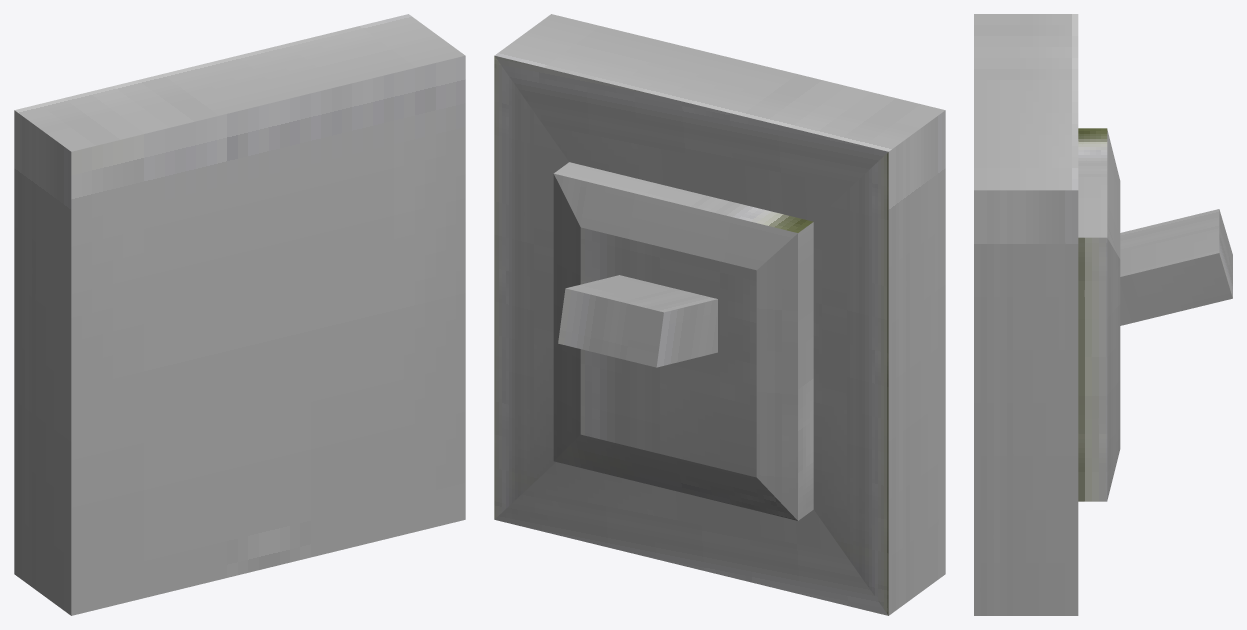
The model's file is light_switch.gltf.
The picture shows the model from 3 angles, left to right: view 1: azimuth 30°, elevation 25°; view 2: azimuth 150°, elevation 25°; view 3: azimuth 270°, elevation 25°; orthographic projection. The views are drawn at different scales.
Visible parts, largest first — view 1: cuboid; view 2: cuboid (×2); view 3: cuboid (×2).
Part boxes in pixels (x1=…): cuboid: x1=14, y1=14, x2=465, y2=615; cuboid (×2): x1=494, y1=14, x2=945, y2=615; cuboid (×2): x1=974, y1=14, x2=1232, y2=615.
Bounding box in the file's own units: 1 × 1.12 × 0.6199.
Materials: 1 (1 with a texture image).
